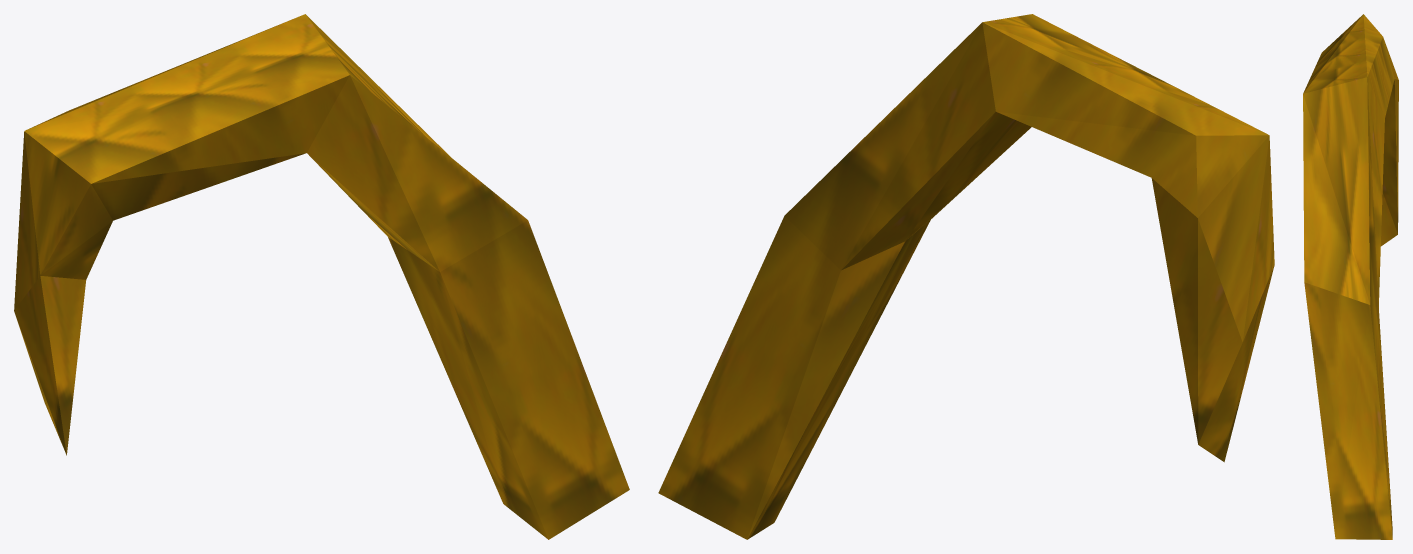
The model's file is WPlant_5_2.gltf.
The picture shows the model from 3 angles, left to right: view 1: azimuth 30°, elevation 25°; view 2: azimuth 150°, elevation 25°; view 3: azimuth 270°, elevation 25°; orthographic projection. The views are drawn at different scales.
Parts seen in each view (by area): view 1: WPlant_5_2; view 2: WPlant_5_2; view 3: WPlant_5_2.
Boxes of the visible parts, x1,y1,x2,y2 form: WPlant_5_2: (14, 14, 629, 539); WPlant_5_2: (658, 14, 1274, 539); WPlant_5_2: (1303, 14, 1398, 539).
Size of the model in its own units: 1.61 by 1.48 by 0.3327.
Materials: 1 (1 with a texture image).
